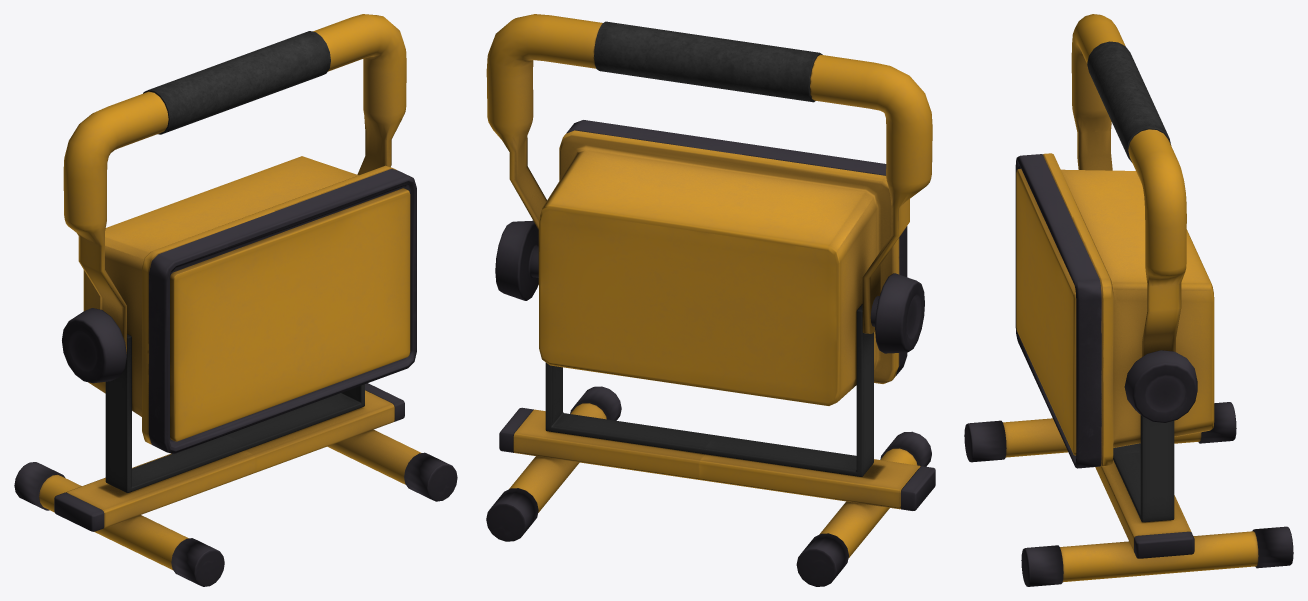
Rendered from portableLight.fbx.
3 renders of one model, left to right at view 1: azimuth 30°, elevation 25°; view 2: azimuth 150°, elevation 25°; view 3: azimuth 270°, elevation 25°, orthographic. The views are drawn at different scales.
Parts seen in each view (by area): view 1: portableLight; view 2: portableLight; view 3: portableLight.
Part boxes in pixels (box(x1,y1,x2,y2)): portableLight: box(14, 14, 457, 586); portableLight: box(486, 14, 935, 586); portableLight: box(964, 14, 1293, 586).
Size of the model in its own units: 22.68 by 17.71 by 25.38.
